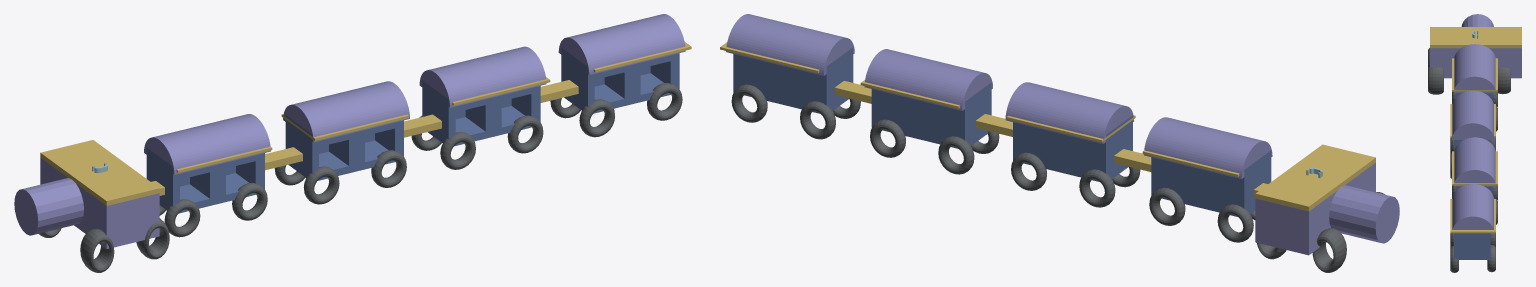
File: PRO-150-TRAIN IN THE DESSERT.glb
3 views of the same model, side by side, from view 1: azimuth 30°, elevation 25°; view 2: azimuth 150°, elevation 25°; view 3: azimuth 270°, elevation 25° (orthographic). The views are drawn at different scales.
Parts seen in each view (by area): view 1: Mesh_Mesh_head_geo.001_lambert2SG.001; view 2: Mesh_Mesh_head_geo.001_lambert2SG.001; view 3: Mesh_Mesh_head_geo.001_lambert2SG.001.
Part boxes in pixels (x1=…): Mesh_Mesh_head_geo.001_lambert2SG.001: x1=14, y1=14, x2=691, y2=272; Mesh_Mesh_head_geo.001_lambert2SG.001: x1=720, y1=14, x2=1399, y2=272; Mesh_Mesh_head_geo.001_lambert2SG.001: x1=1428, y1=14, x2=1521, y2=272.
Size of the model in its own units: 281 by 37 by 51.
